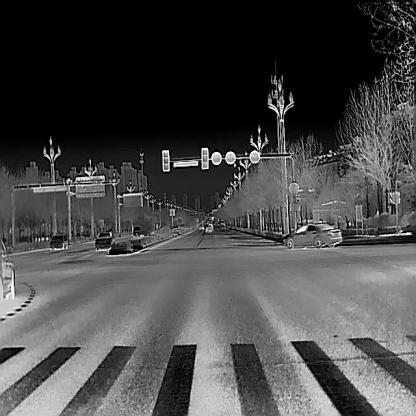car: (281, 222, 342, 249), (0, 236, 15, 300), (95, 230, 115, 251), (49, 232, 68, 250), (133, 226, 146, 236), (205, 225, 212, 232), (219, 223, 225, 228), (199, 224, 203, 230)
